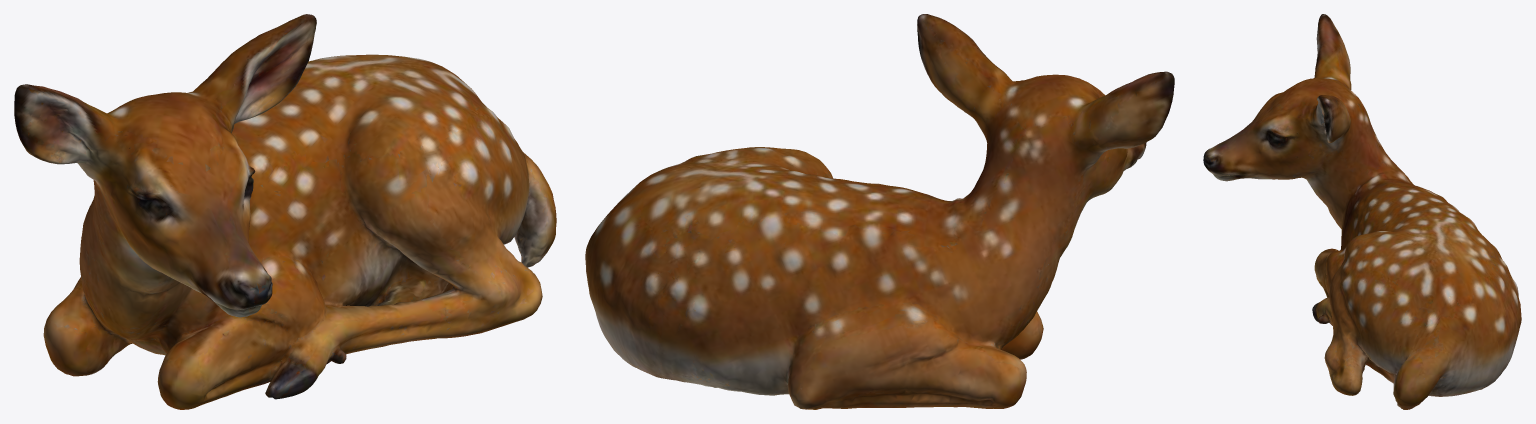
3 views of the same model, side by side, from view 1: azimuth 30°, elevation 25°; view 2: azimuth 150°, elevation 25°; view 3: azimuth 270°, elevation 25° (orthographic). The views are drawn at different scales.
Visible parts, largest first — view 1: Mesh1.001; view 2: Mesh1.001; view 3: Mesh1.001.
Part boxes in pixels (x1,y1,x2,y2): Mesh1.001: [14, 14, 556, 409]; Mesh1.001: [585, 14, 1174, 409]; Mesh1.001: [1203, 14, 1521, 409].
Bounding box in the file's own units: 1.92 × 1.12 × 1.42.
1 material, 1 textured.
